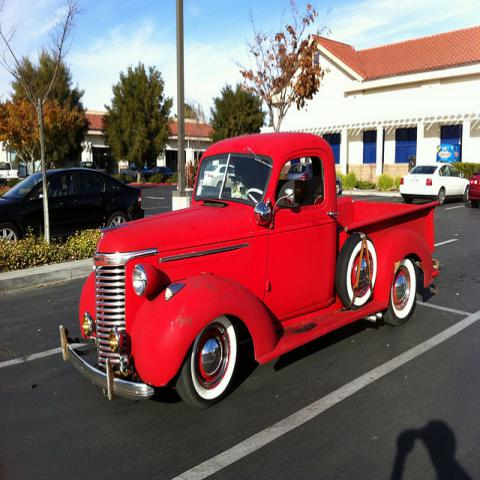car: (0, 169, 145, 234), (398, 162, 470, 206), (141, 166, 174, 182), (467, 168, 479, 210), (336, 175, 343, 196)
truck: (60, 127, 441, 415), (120, 162, 138, 180)
